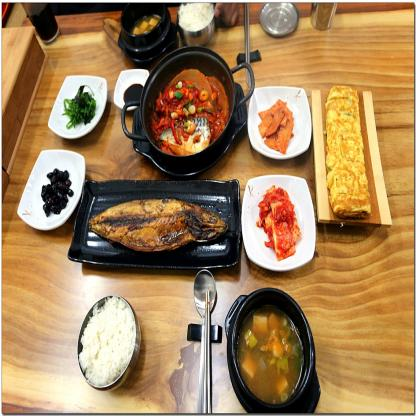Peixe: (87, 195, 236, 257)
